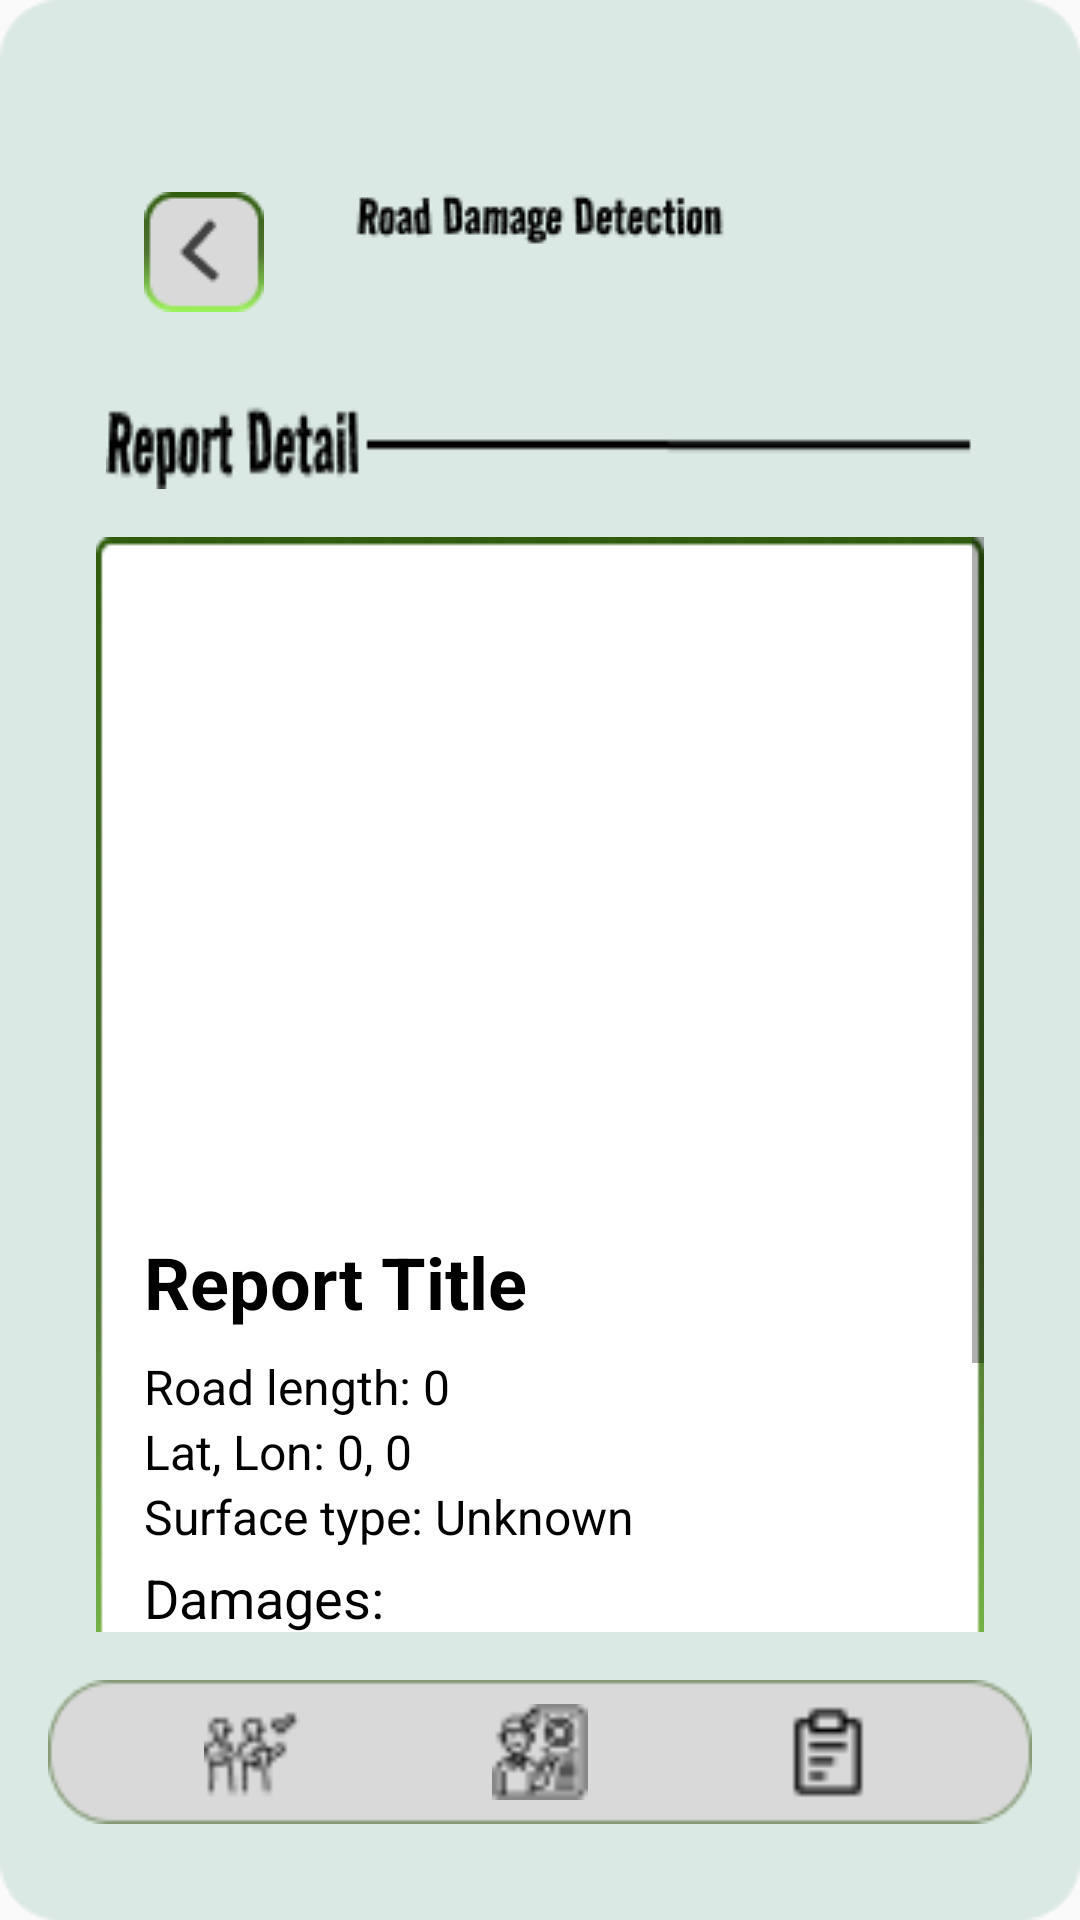

Screen size 1080 x 1920. Icon name, then its center in pixels as point (x, y):
back arrow: point (204, 252)
carbon report: point (828, 1752)
